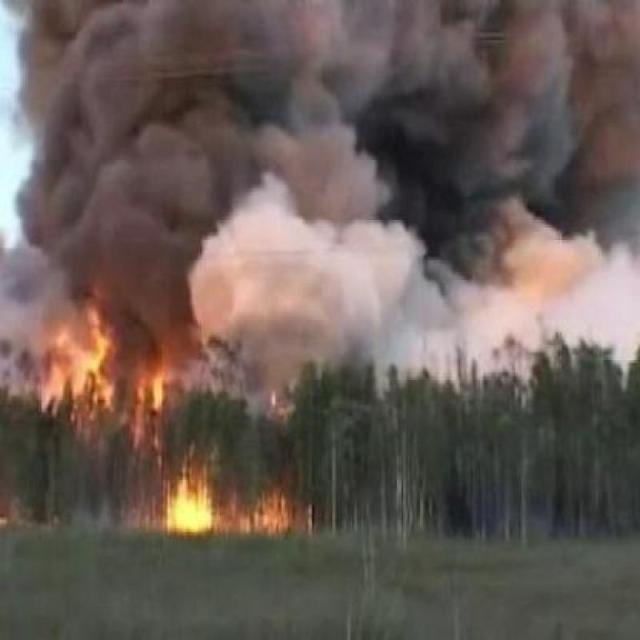Fire: (155, 464, 305, 539), (38, 306, 116, 417), (130, 350, 168, 416)
Smoke: (204, 306, 639, 380), (19, 177, 267, 300)
